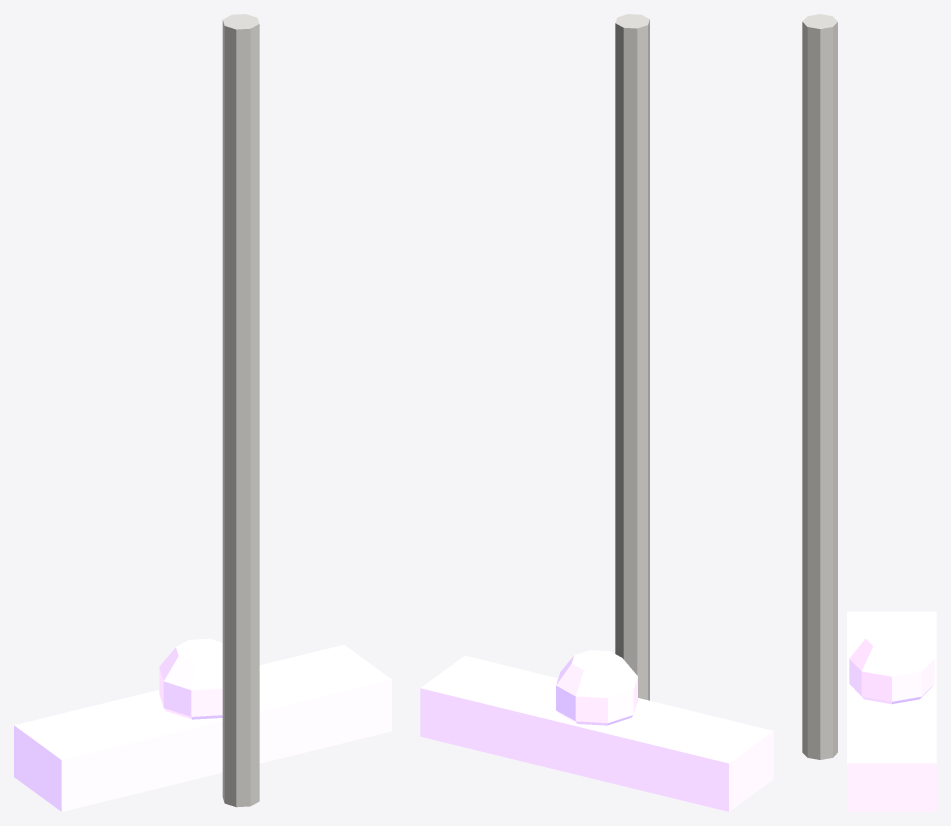
The model's file is tool_plasma.glb.
3 views of the same model, side by side, from view 1: azimuth 30°, elevation 25°; view 2: azimuth 150°, elevation 25°; view 3: azimuth 270°, elevation 25° (orthographic). The views are drawn at different scales.
Parts seen in each view (by area): view 1: stick, head, core; view 2: head, stick, core; view 3: stick, head, core.
Part boxes in pixels (x1=…): stick: x1=222, y1=14, x2=259, y2=807; head: x1=14, y1=644, x2=391, y2=811; core: x1=159, y1=638, x2=222, y2=719; head: x1=420, y1=655, x2=773, y2=811; stick: x1=615, y1=14, x2=649, y2=700; core: x1=556, y1=650, x2=637, y2=725; stick: x1=802, y1=14, x2=837, y2=759; head: x1=847, y1=611, x2=936, y2=811; core: x1=849, y1=627, x2=934, y2=704.
Size of the model in its own units: 0.4 by 0.9 by 0.15.
